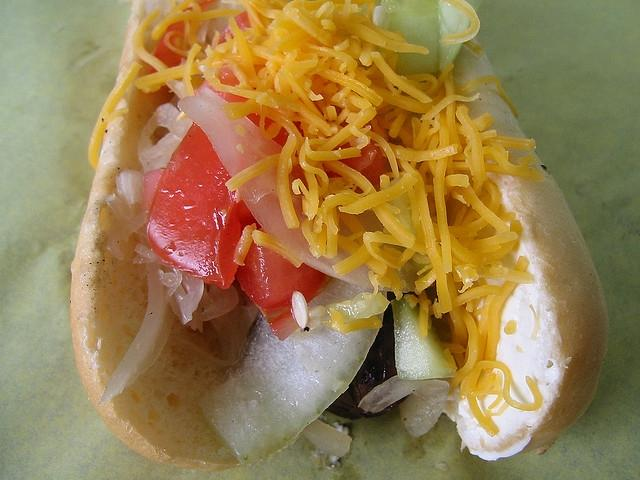onion: (176, 86, 374, 290), (197, 276, 387, 466), (100, 262, 176, 403), (358, 376, 451, 438), (391, 298, 456, 380), (372, 4, 440, 76), (210, 281, 259, 366), (137, 103, 192, 174), (173, 270, 204, 324), (116, 171, 145, 215)
tomato: (146, 88, 289, 290), (235, 242, 328, 332), (148, 2, 220, 110), (338, 139, 388, 186), (218, 10, 250, 44), (216, 62, 240, 86), (292, 121, 304, 137)
